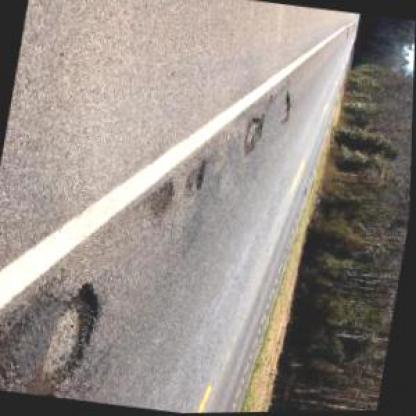pothole: (39, 280, 107, 388), (143, 179, 179, 223), (239, 113, 266, 160), (186, 157, 211, 194), (278, 94, 296, 129)
